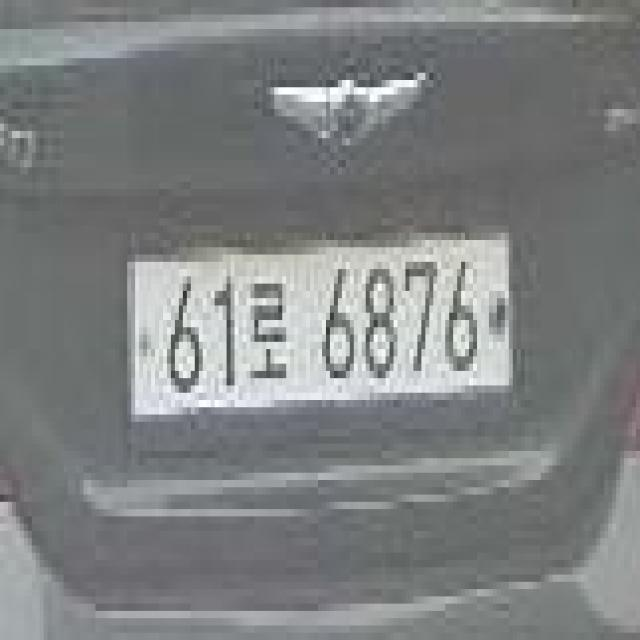1: (208, 267, 240, 394)
6: (162, 264, 203, 399), (318, 259, 358, 388), (448, 250, 482, 374)
7: (403, 254, 439, 376)
8: (360, 257, 400, 382)
license_plate: (119, 213, 533, 440)
lo: (243, 272, 290, 389)
